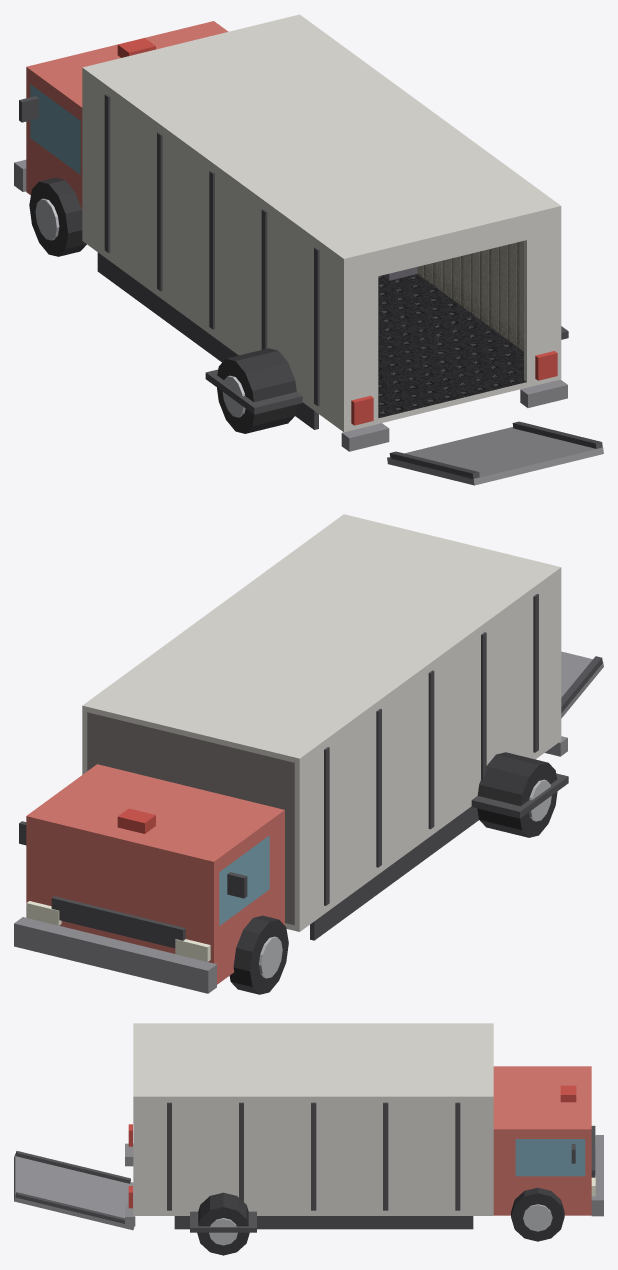
Rendered from box_van.glb.
The picture shows the model from 3 angles, top to bottom: view 1: azimuth 30°, elevation 25°; view 2: azimuth 150°, elevation 25°; view 3: azimuth 270°, elevation 25°; orthographic projection. The views are drawn at different scales.
Parts seen in each view (by area): view 1: Box_Roof, Box_Side_L, Int_Floor, Int_Lining_Wall_R, Van_Ramp, Cab_Body, Box_Jamb_R, Box_Jamb_L, Box_Header, Van_Skirt_L, Van_Wheel_FL, Van_Wheel_RL2 (+15 smaller); view 2: Box_Roof, Box_Side_L, Cab_Body, Box_Bulkhead, Van_Bumper_Front, Van_Skirt_L, Van_Grille, Van_Wheel_FL, Van_Wheel_RL2, Cab_Window_L, Van_Wheel_RL1, Box_Floor (+11 smaller); view 3: Box_Side_R, Box_Roof, Cab_Body, Van_Ramp, Van_Skirt_R, Cab_Window_R, Van_Wheel_FR, Van_Wheel_RR2, Box_Floor, Van_Bumper_Front, Van_Ramp_Rail_L, Van_Arch_R (+9 smaller).
Boxes of the visible parts, box(x1,y1,x2,y2) form: Box_Roof: box(82, 14, 561, 264); Box_Side_L: box(82, 73, 348, 426); Int_Floor: box(378, 274, 526, 418); Int_Lining_Wall_R: box(417, 241, 523, 351); Van_Ramp: box(387, 427, 603, 485); Cab_Body: box(26, 21, 228, 210); Box_Jamb_R: box(524, 212, 556, 382); Box_Jamb_L: box(349, 256, 378, 425); Box_Header: box(378, 220, 526, 276); Van_Skirt_L: box(97, 252, 318, 429); Van_Wheel_FL: box(29, 177, 86, 256); Van_Wheel_RL2: box(217, 353, 275, 433); Box_Roof: box(82, 514, 561, 763); Box_Side_L: box(294, 573, 561, 926); Cab_Body: box(26, 764, 284, 984); Box_Bulkhead: box(87, 712, 294, 925); Van_Bumper_Front: box(14, 917, 216, 993); Van_Skirt_L: box(310, 807, 478, 940); Van_Grille: box(51, 896, 185, 948); Van_Wheel_FL: box(229, 915, 288, 994); Van_Wheel_RL2: box(498, 757, 557, 837); Cab_Window_L: box(219, 835, 269, 925); Van_Wheel_RL1: box(477, 752, 525, 832); Box_Floor: box(285, 735, 561, 931); Box_Side_R: box(133, 1100, 493, 1212); Box_Roof: box(133, 1023, 493, 1100); Cab_Body: box(493, 1066, 591, 1215); Van_Ramp: box(14, 1154, 134, 1230); Van_Skirt_R: box(174, 1216, 473, 1229); Cab_Window_R: box(515, 1139, 585, 1176); Van_Wheel_FR: box(511, 1187, 564, 1241); Van_Wheel_RR2: box(197, 1199, 249, 1255); Box_Floor: box(133, 1212, 493, 1215); Van_Bumper_Front: box(591, 1135, 603, 1216); Van_Ramp_Rail_L: box(15, 1151, 130, 1183); Van_Arch_R: box(190, 1211, 256, 1232).
Size of the model in its own units: 4.86 by 3.19 by 11.46.
15 materials, 3 textured.
